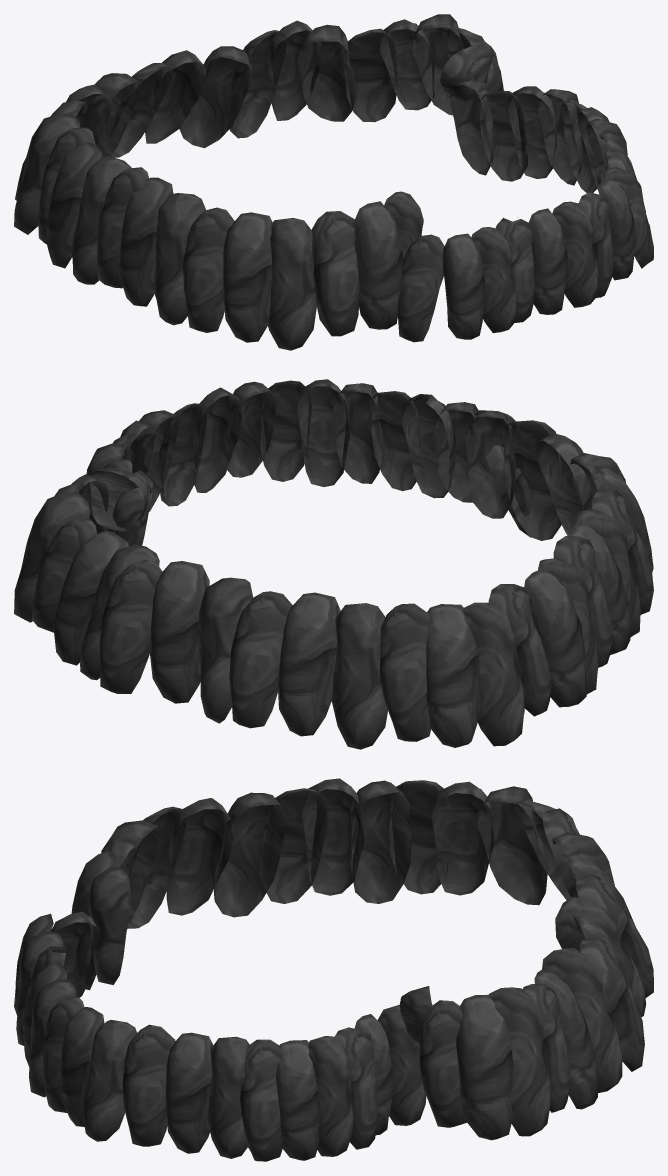
Rendered from RCIMainLowBorderShape1.dae.
3 views of the same model, one above another, from view 1: azimuth 30°, elevation 25°; view 2: azimuth 150°, elevation 25°; view 3: azimuth 270°, elevation 25° (orthographic). The views are drawn at different scales.
Visible parts, largest first — view 1: RCIMainLowBorder1; view 2: RCIMainLowBorder1; view 3: RCIMainLowBorder1.
Part boxes in pixels (x1,y1,x2,y2): RCIMainLowBorder1: (14, 14, 653, 350); RCIMainLowBorder1: (14, 379, 653, 749); RCIMainLowBorder1: (14, 778, 653, 1161).
Size of the model in its own units: 198 by 48.1 by 193.
